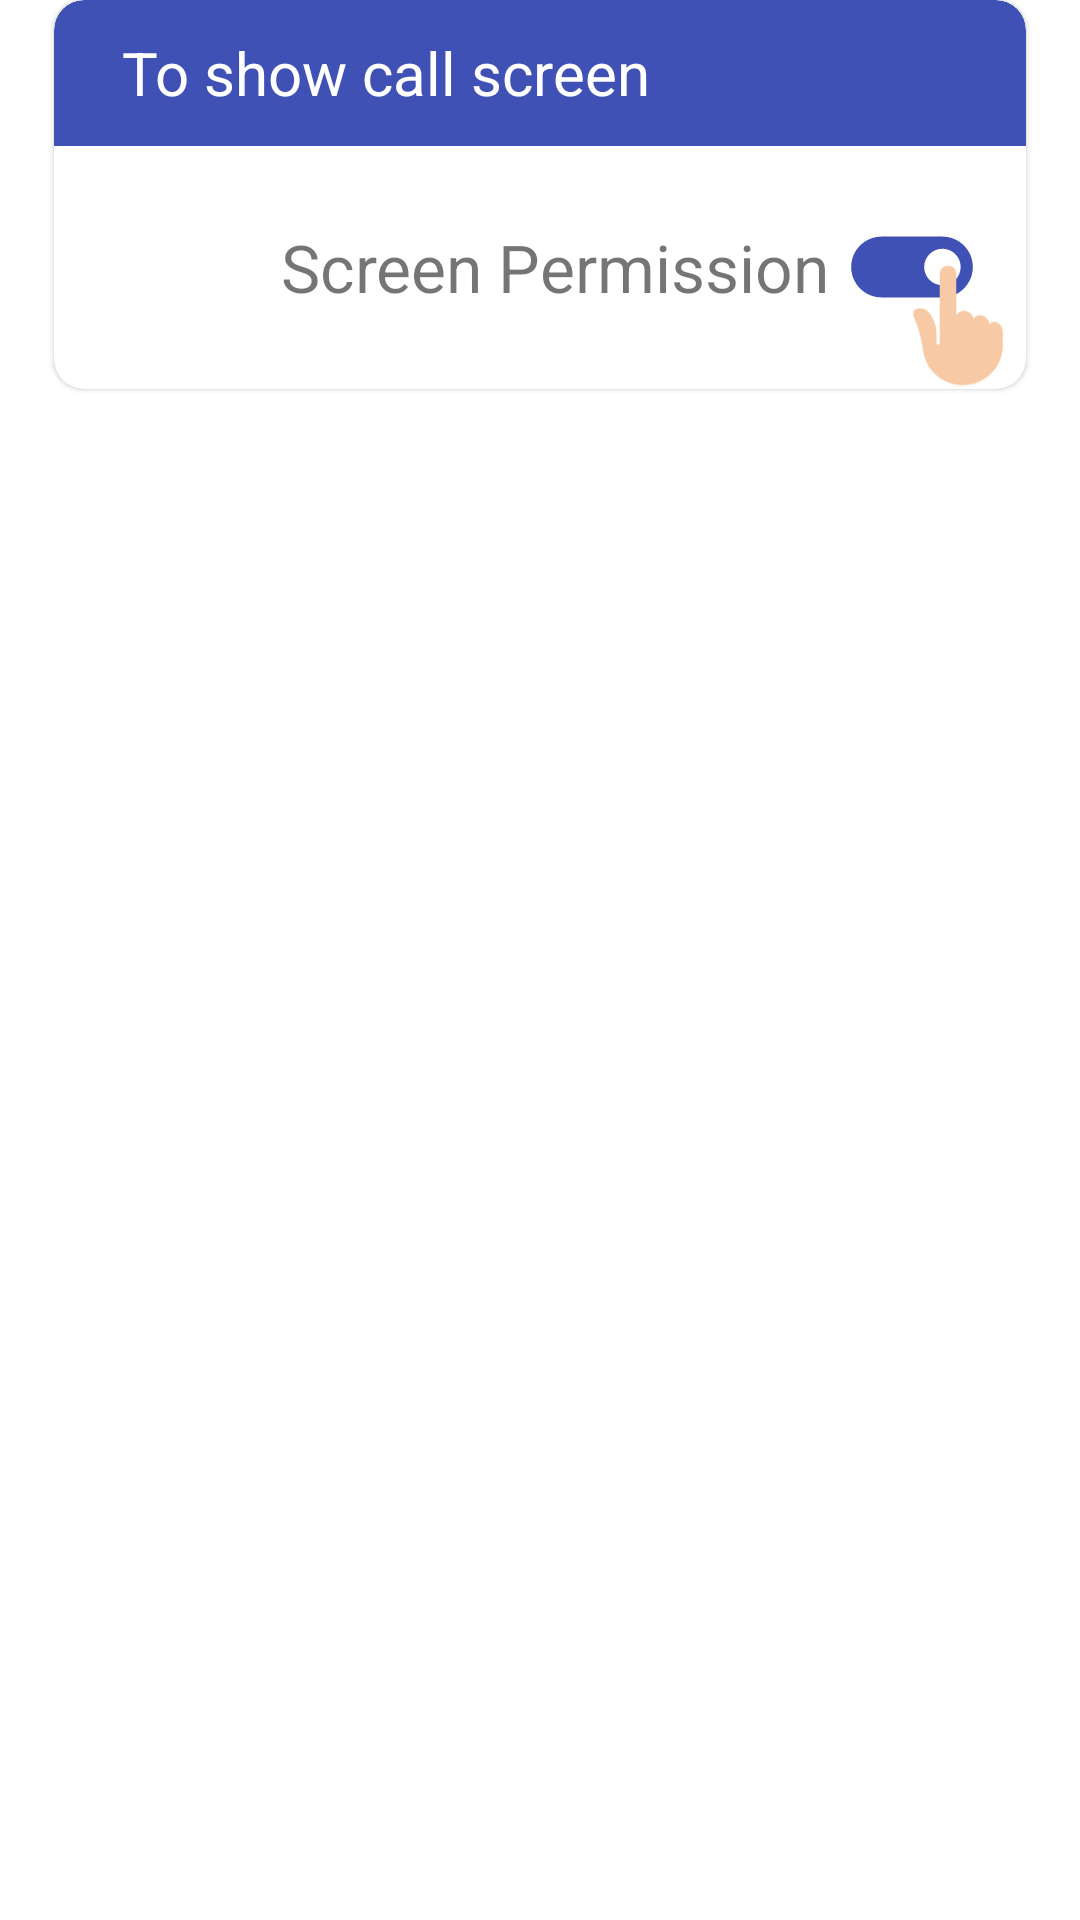

Icon bounding boxes for this 1080w x 1920h phone screenshot, format (left=x1, top=y1, right=x2, bottom=y2):
backhand: (left=900, top=262, right=1026, bottom=389)
switch: (left=851, top=236, right=985, bottom=340)
